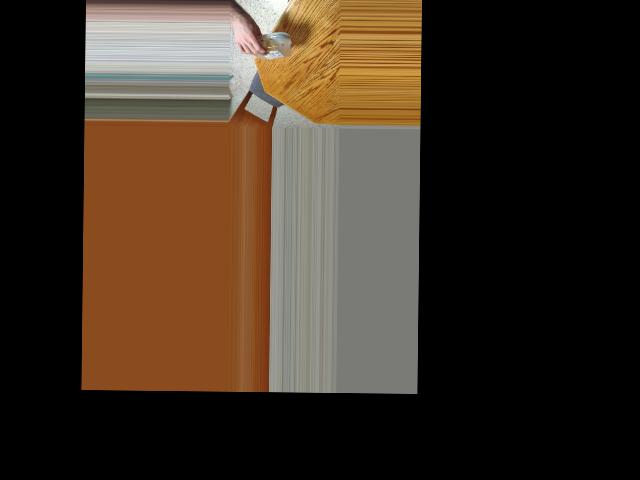cheese: (244, 27, 285, 62)
